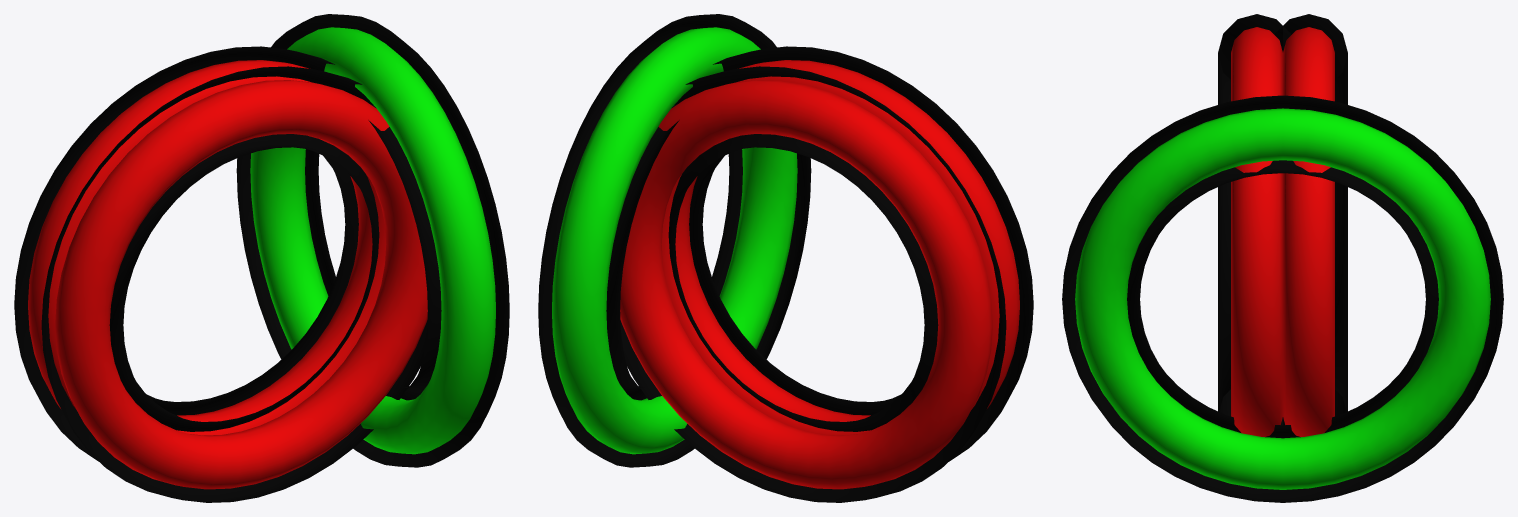
Rendered from 4_in_2_orbital_step_02.glb.
3 renders of one model, left to right at view 1: azimuth 30°, elevation 25°; view 2: azimuth 150°, elevation 25°; view 3: azimuth 270°, elevation 25°, orthographic. The views are drawn at different scales.
Parts seen in each view (by area): view 1: Torus.001, Torus.004, Torus; view 2: Torus, Torus.004, Torus.001; view 3: Torus.004, Torus, Torus.001.
Boxes of the visible parts, box(x1,y1,x2,y2) form: Torus.001: box(41, 66, 427, 502); Torus.004: box(236, 14, 509, 467); Torus: box(14, 46, 386, 461); Torus: box(620, 66, 1006, 502); Torus.004: box(538, 14, 811, 467); Torus.001: box(661, 46, 1033, 461); Torus.004: box(1062, 95, 1503, 502); Torus: box(1275, 14, 1347, 436); Torus.001: box(1218, 14, 1290, 436).
Bounding box in the file's own units: 3.4 × 3.4 × 3.4.
